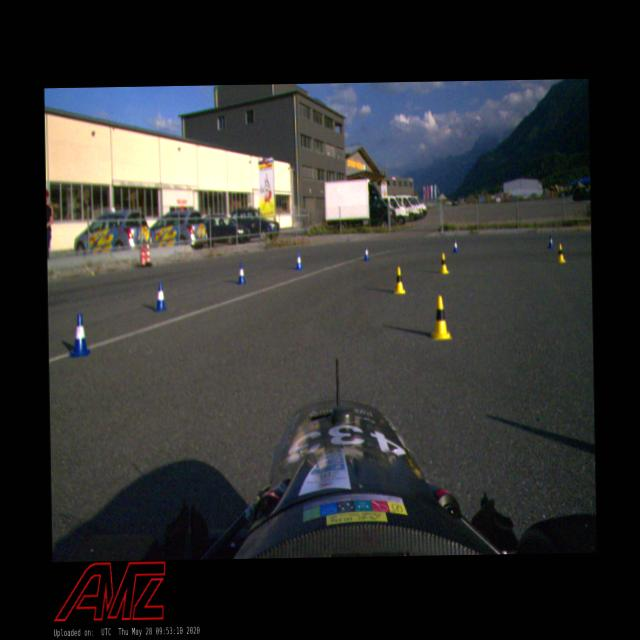blue_cone: (70, 314, 88, 356), (154, 282, 167, 310), (237, 262, 245, 284), (295, 252, 302, 269), (452, 238, 458, 252), (548, 235, 554, 248), (364, 246, 369, 260)
yellow_cone: (432, 294, 450, 338), (393, 266, 405, 294), (439, 252, 448, 273), (556, 244, 564, 262)
